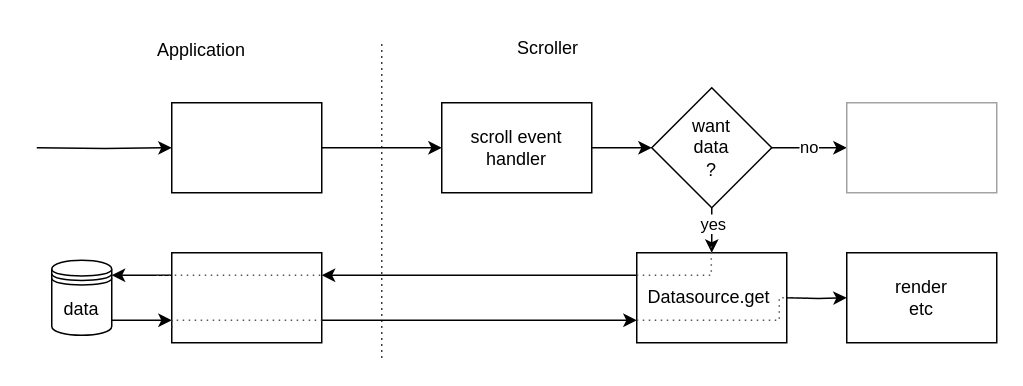
The diagram is 1023 pixels wide and 386 high, and some of its shapes have lost their labels. The shapes that lost their labels are listed below. From the top down, each one's centre as x and y in pixels, then its label:
At (x=246, y=147): "scroll events triggering".
At (x=921, y=147): "skip".
At (x=246, y=297): "Datasource".
